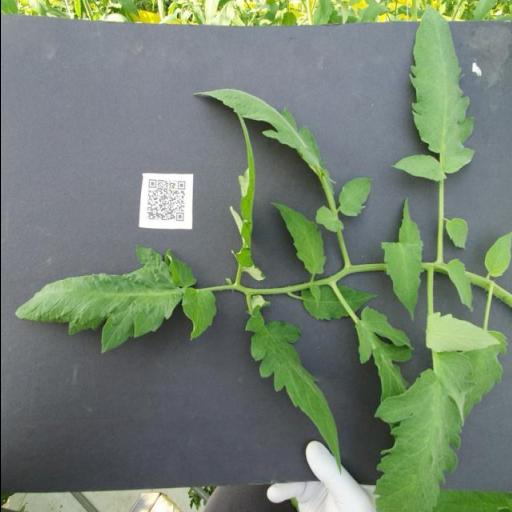Healthy: (11, 244, 217, 354), (370, 345, 480, 512), (242, 296, 342, 476), (190, 87, 336, 197), (388, 4, 477, 181), (270, 200, 326, 274), (338, 176, 374, 218), (483, 230, 512, 278)
